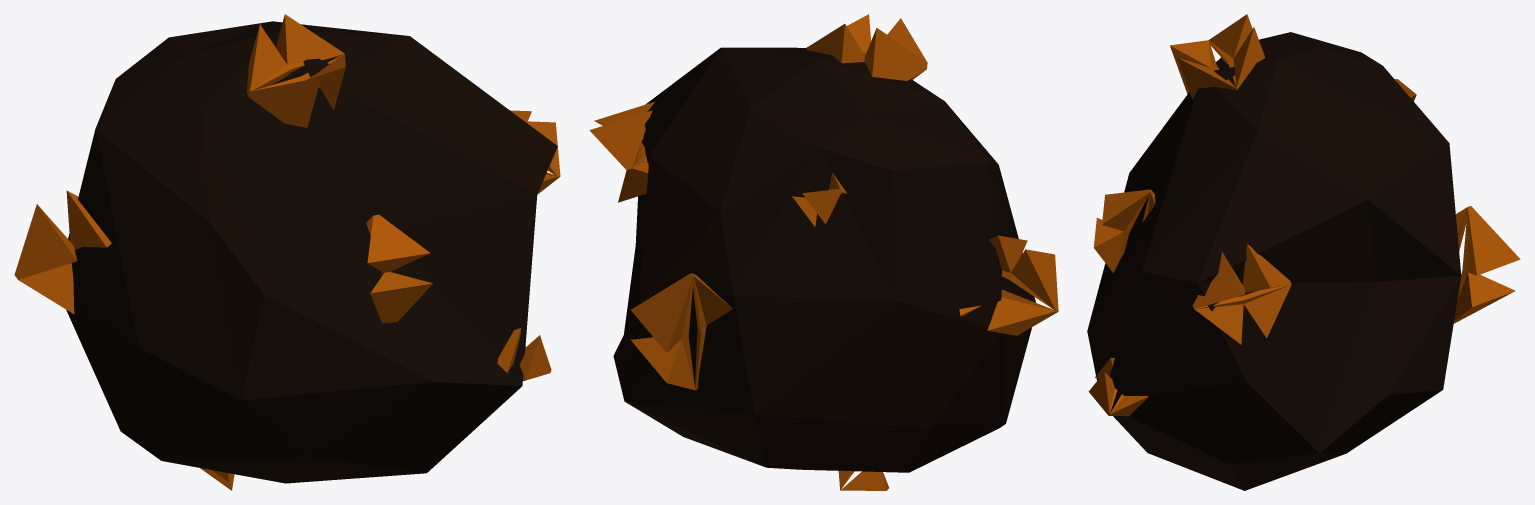
Rendered from AsteroidMineral.fbx.
The picture shows the model from 3 angles, left to right: view 1: azimuth 30°, elevation 25°; view 2: azimuth 150°, elevation 25°; view 3: azimuth 270°, elevation 25°; orthographic projection. The views are drawn at different scales.
Visible parts, largest first — view 1: Icosphere, Mineral; view 2: Icosphere, Mineral; view 3: Icosphere, Mineral.
Part boxes in pixels (x1=…): Icosphere: x1=66, y1=21, x2=557, y2=483; Mineral: x1=14, y1=14, x2=560, y2=490; Icosphere: x1=613, y1=47, x2=1035, y2=472; Mineral: x1=589, y1=14, x2=1058, y2=490; Icosphere: x1=1087, y1=32, x2=1461, y2=490; Mineral: x1=1088, y1=14, x2=1520, y2=416.
Size of the model in its own units: 328 by 289 by 270.
